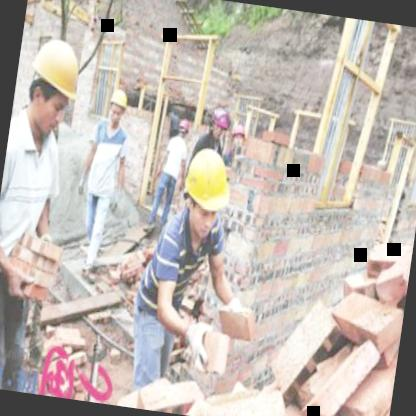helmet: (18, 34, 88, 140), (174, 144, 238, 242), (104, 82, 131, 130), (207, 107, 232, 143), (228, 120, 250, 154), (176, 115, 192, 140)
